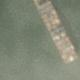ship: (32, 0, 80, 33)
